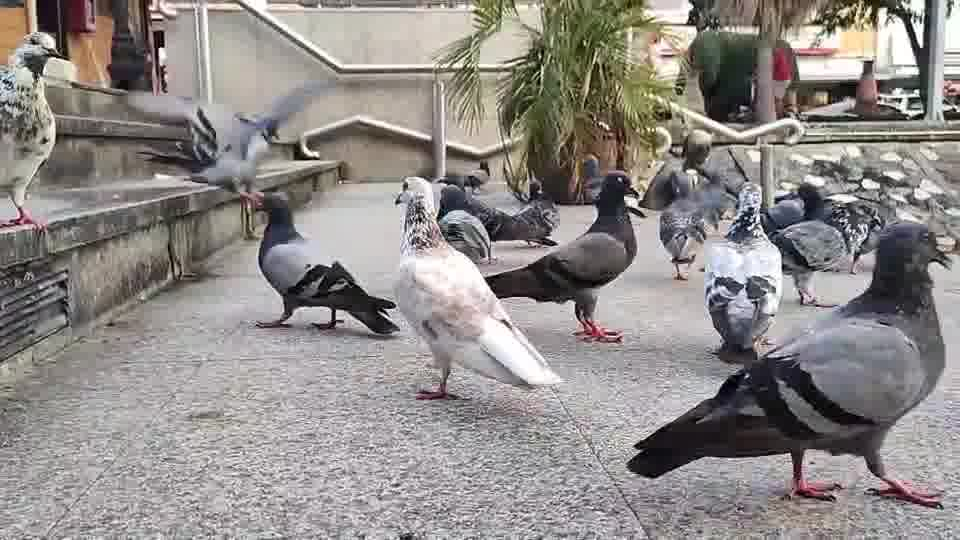Pigeon: (625, 219, 951, 509), (392, 188, 564, 401), (482, 170, 646, 342), (135, 88, 307, 237), (238, 189, 400, 337), (702, 181, 784, 357), (0, 30, 68, 235), (437, 181, 559, 248)
